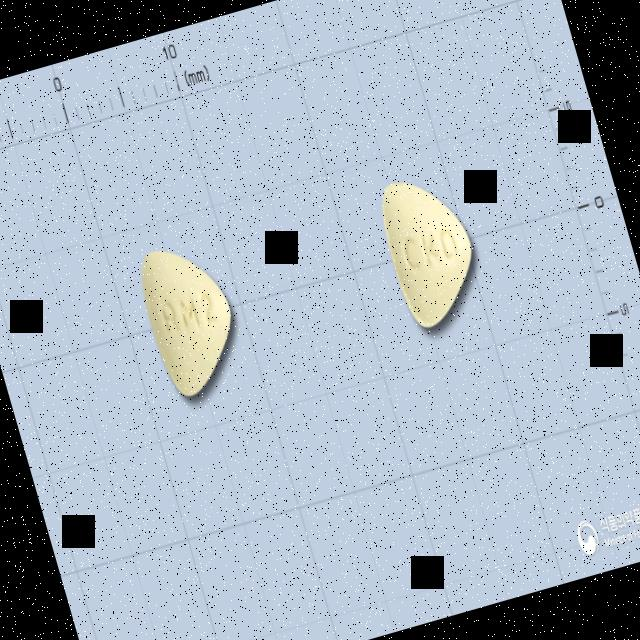Leflunomide Myungmoon -20mg: (131, 235, 251, 402), (372, 165, 491, 332)
